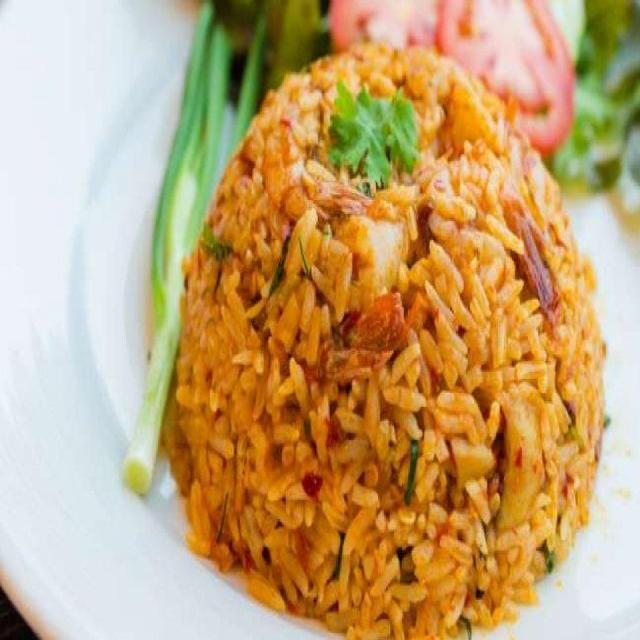Nasi Goreng: (162, 38, 607, 635)
